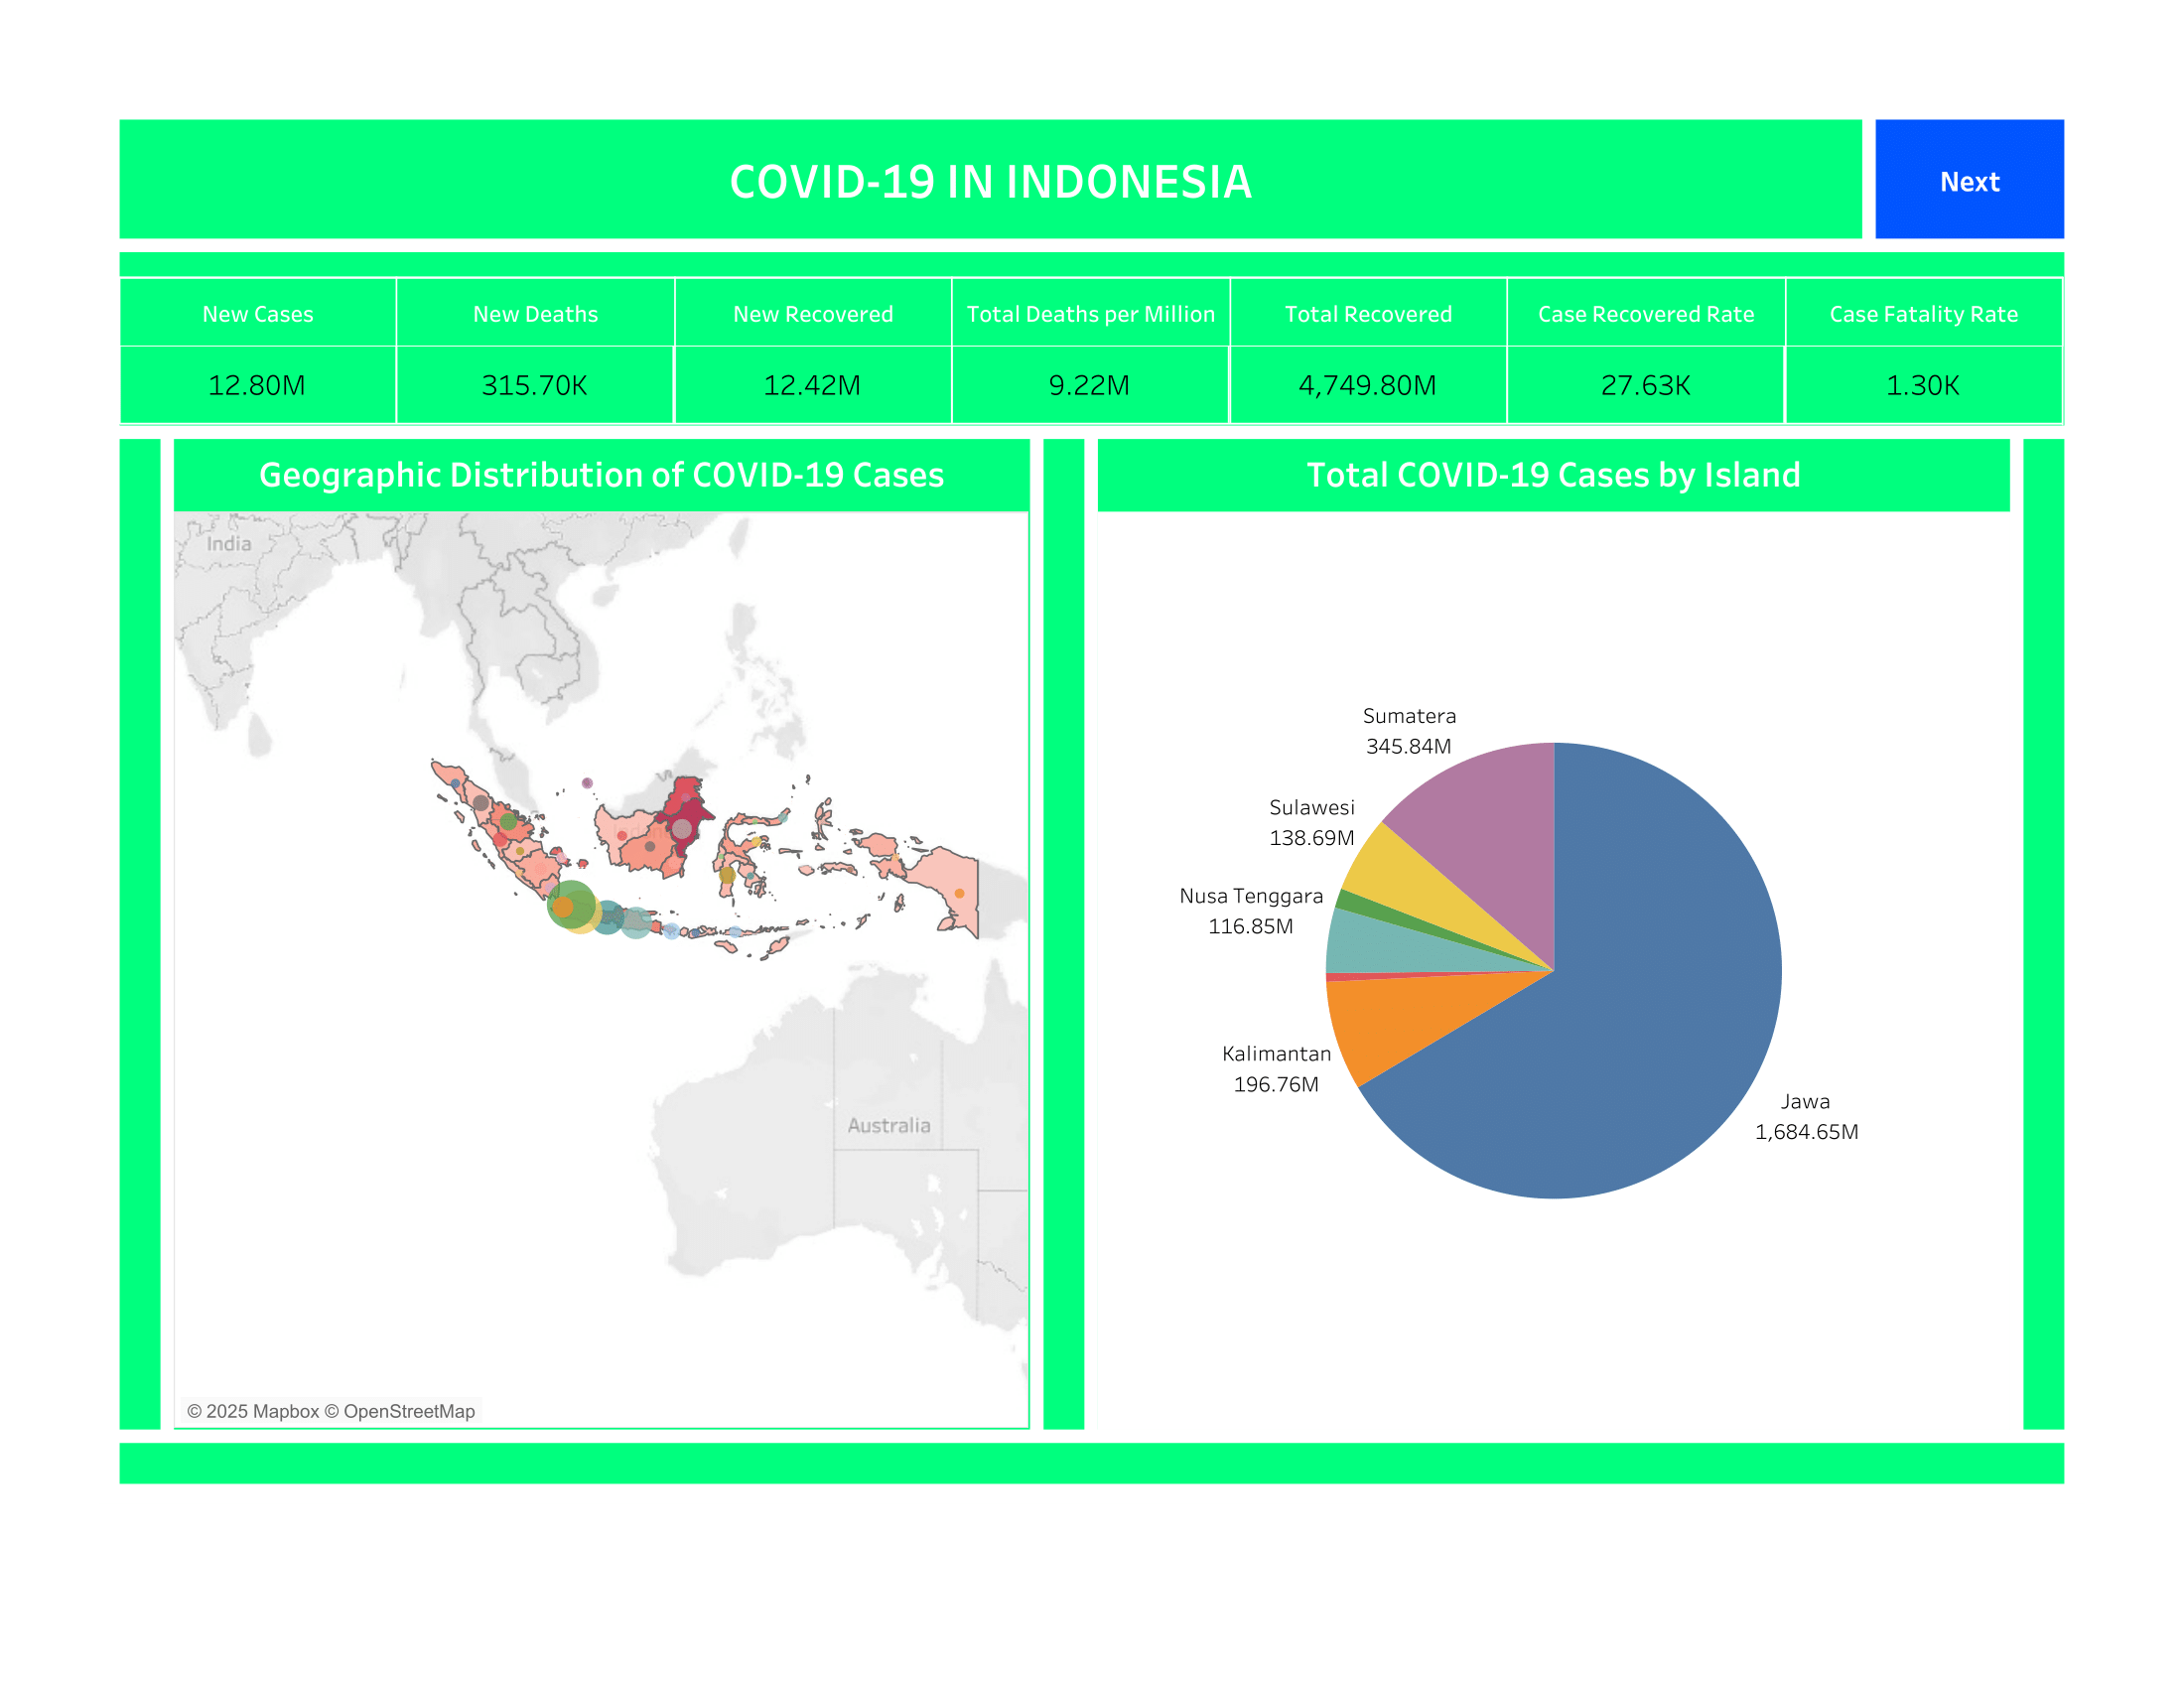

The page's visual inventory and layout, read from the dashboard file:
{"tool":"tableau","page":{"name":"Dashboard 1","canvas":[1169,827],"ordinal":0},"visuals":[{"type":"text","box":[8,8,1034,78.1]},{"type":"dashboard-object","box":[1042,8,119,78.1]},{"type":"worksheet","title":"Data","mark":"Automatic","box":[8,86.1,1153,110]},{"type":"blank","box":[8,196.1,32,590.9]},{"type":"worksheet","title":"Map","mark":"Automatic","box":[40,196.1,512,590.9]},{"type":"blank","box":[552,196.1,32.5,590.9]},{"type":"worksheet","title":"Pie Chart Case by Island","mark":"Pie","box":[584.5,196.1,544.5,590.9]},{"type":"blank","box":[1129,196.1,32,590.9]},{"type":"blank","box":[8,787,1153,32]}]}

Visuals, with their boxes on the page's 1169x827 design canvas (x1, y1, x2, y2). These are canvas units, not pixel positions in the 2184x1688 screenshot, which may show the page scaled, cropped or inside an application window:
text: x1=8 y1=8 x2=1042 y2=86
dashboard-object: x1=1042 y1=8 x2=1161 y2=86
"Data" worksheet: x1=8 y1=86 x2=1161 y2=196
blank: x1=8 y1=196 x2=40 y2=787
"Map" worksheet: x1=40 y1=196 x2=552 y2=787
blank: x1=552 y1=196 x2=584 y2=787
"Pie Chart Case by Island" worksheet (Pie marks): x1=584 y1=196 x2=1129 y2=787
blank: x1=1129 y1=196 x2=1161 y2=787
blank: x1=8 y1=787 x2=1161 y2=819
